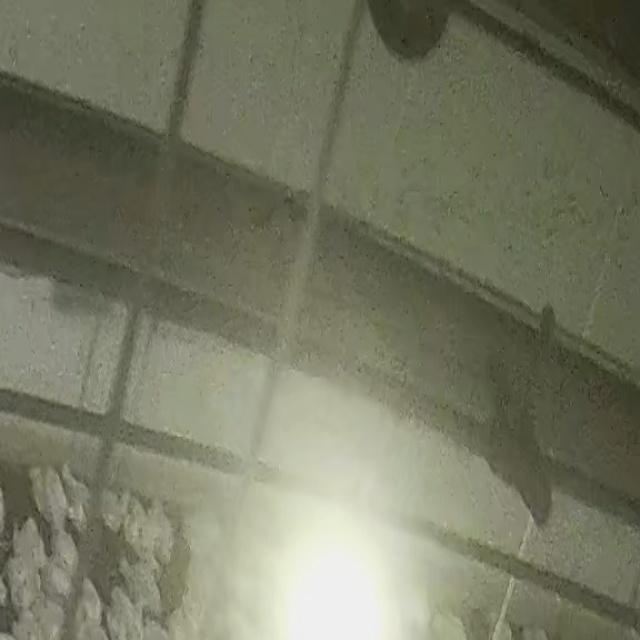chicken: (49, 518, 82, 574)
